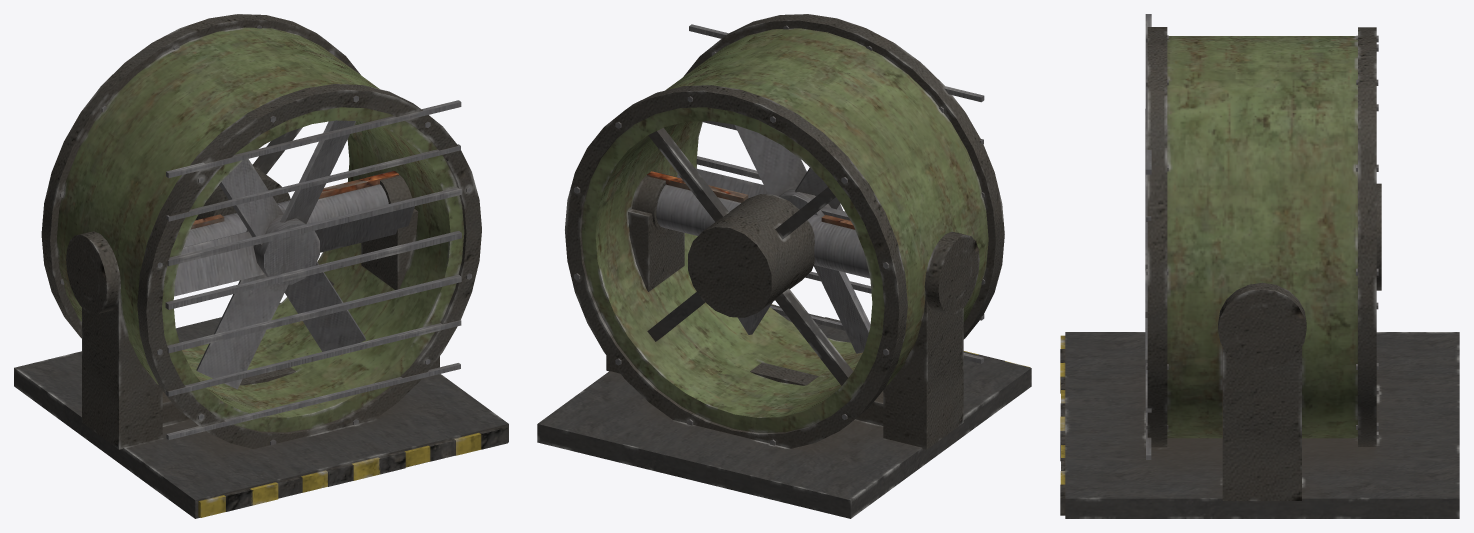
The model's file is feFan_HD.fbx.
3 views of the same model, side by side, from view 1: azimuth 30°, elevation 25°; view 2: azimuth 150°, elevation 25°; view 3: azimuth 270°, elevation 25° (orthographic). The views are drawn at different scales.
Visible parts, largest first — view 1: feFan_Base, FeSpin_x4_Blades, FeSpin_DriveShaft; view 2: feFan_Base, FeSpin_DriveShaft, FeSpin_x4_Blades; view 3: feFan_Base, FeSpin_DriveShaft.
Boxes of the visible parts, bbox=[...] form: feFan_Base: bbox=[14, 14, 508, 518]; FeSpin_x4_Blades: bbox=[174, 120, 414, 389]; FeSpin_DriveShaft: bbox=[66, 171, 399, 314]; feFan_Base: bbox=[537, 14, 1031, 518]; FeSpin_DriveShaft: bbox=[647, 171, 979, 314]; FeSpin_x4_Blades: bbox=[677, 125, 870, 353]; feFan_Base: bbox=[1060, 14, 1459, 518]; FeSpin_DriveShaft: bbox=[1218, 282, 1306, 369].
Bounding box in the file's own units: 1 × 0.983 × 0.9121.
1 material, 1 textured.
